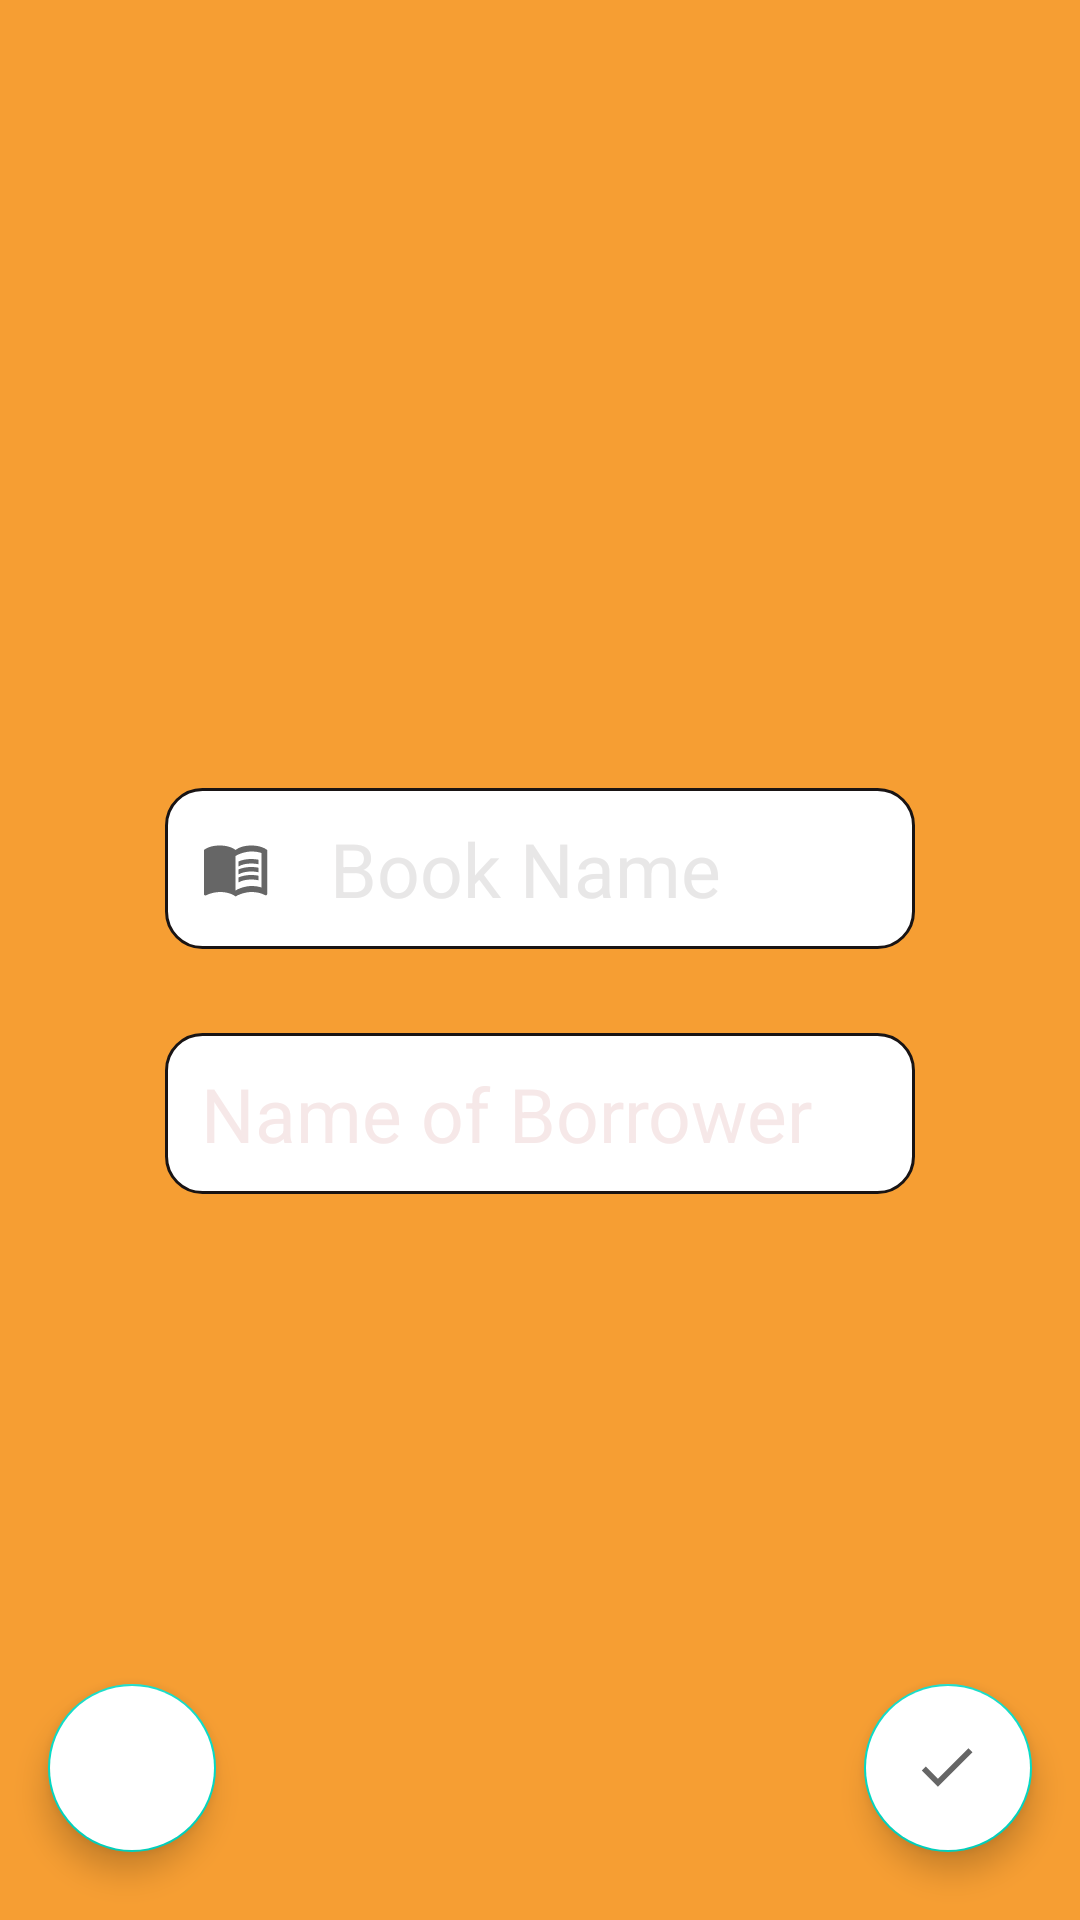

Icon click points for this 1080px x 1920px phone screenshot, format point (x, y):
done: point (948, 1768)
